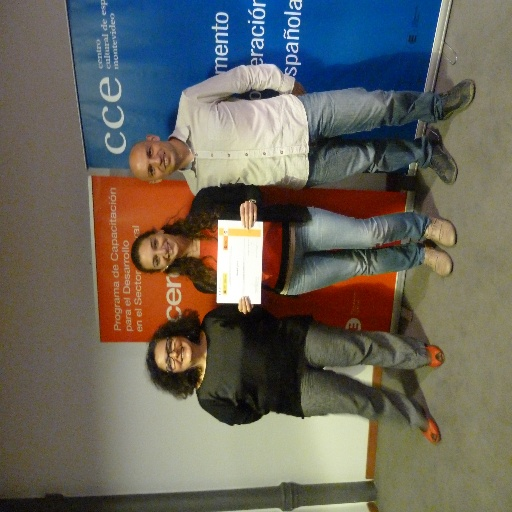hand: (236, 200, 257, 229), (237, 295, 254, 314), (291, 79, 307, 95)
